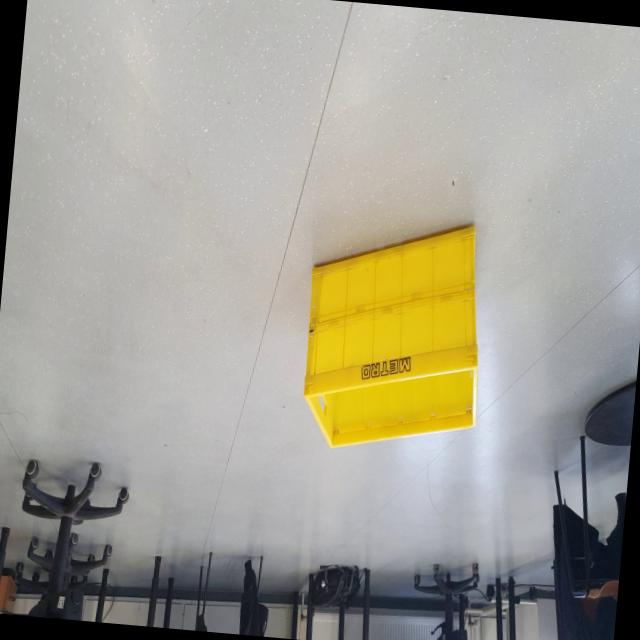box: (286, 188, 508, 467)
